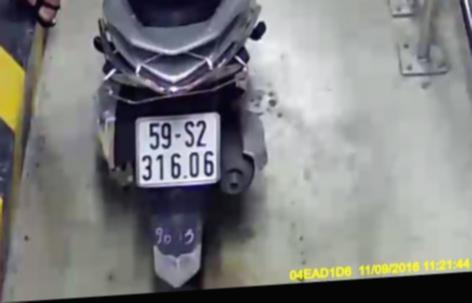License_Plate: (124, 104, 233, 195)
